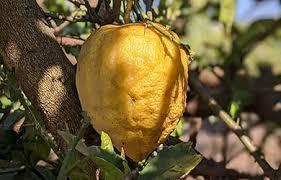lemon: (75, 21, 189, 162)
